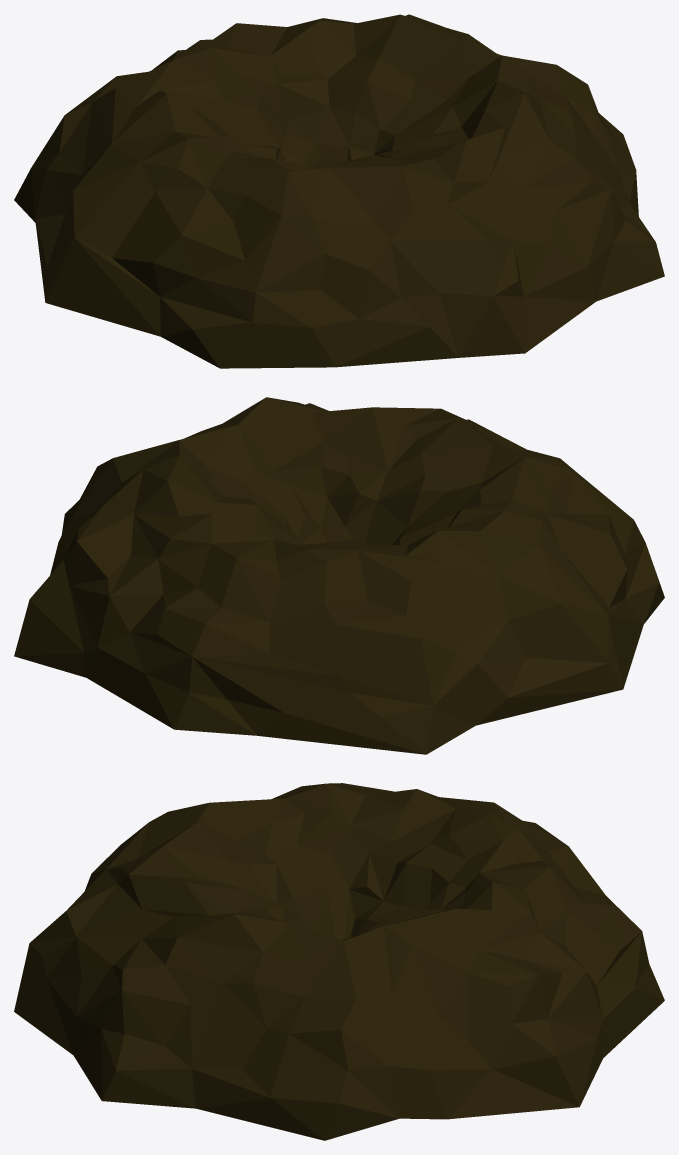
Rendered from dirt pile.fbx.
3 views of the same model, one above another, from view 1: azimuth 30°, elevation 25°; view 2: azimuth 150°, elevation 25°; view 3: azimuth 270°, elevation 25° (orthographic).
Visible parts, largest first — view 1: start end mound; view 2: start end mound; view 3: start end mound.
Boxes of the visible parts, x1,y1,x2,y2 form: start end mound: (14,14,664,368); start end mound: (14,397,664,754); start end mound: (14,783,664,1140).
Bounding box in the file's own units: 209 × 58.25 × 207.
